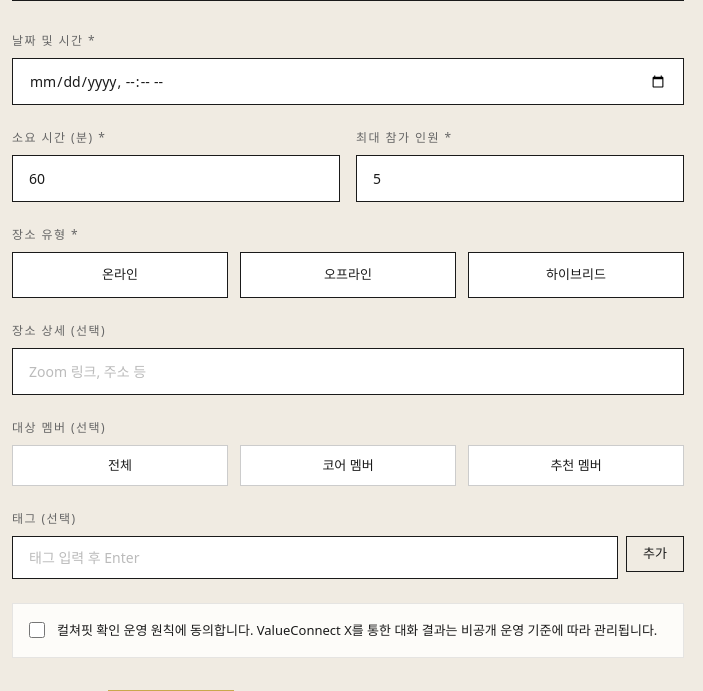
Test case: SessionForm › adds tag via 추가 button click
(page scrolled)
Type "AI" into the field with placeholder "태그 입력 후 Enter" at (315, 558), box top-left (12, 536), bottom-right (618, 579)
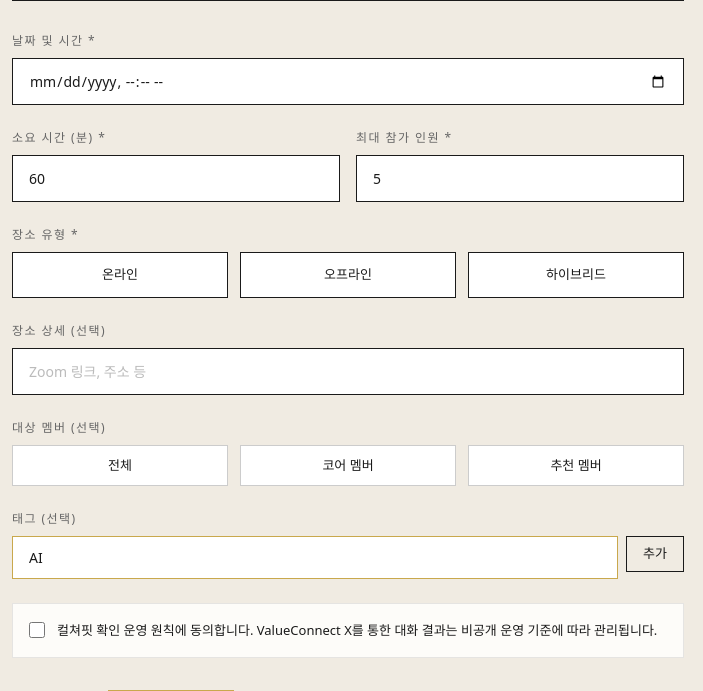
Click the button "추가" at (655, 554), box top-left (626, 536), bottom-right (684, 572)
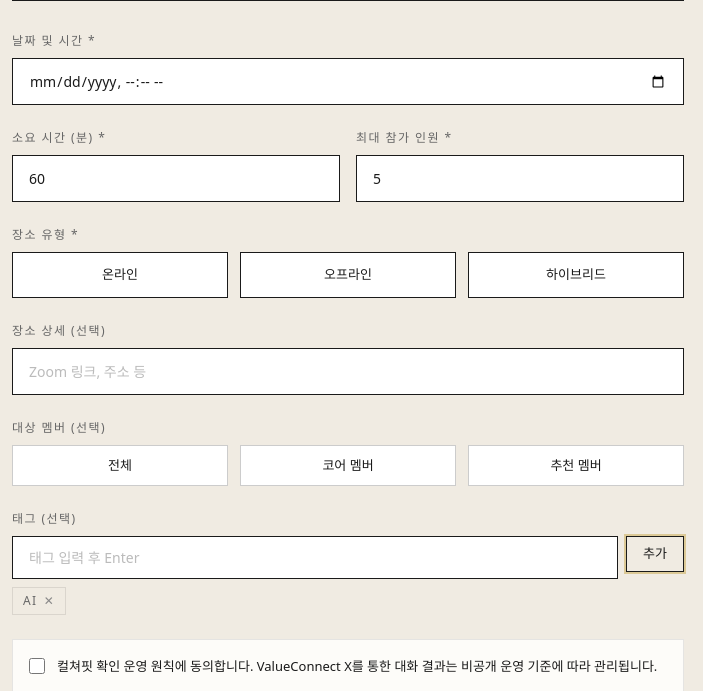
Now the text "AI" is shown, box top-left (23, 592), bottom-right (38, 609)
